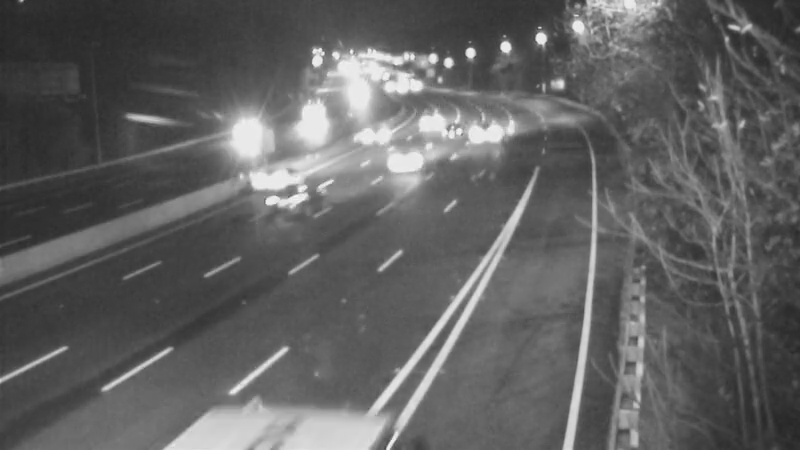vehicle: (368, 123, 448, 203), (231, 133, 311, 213), (251, 162, 331, 242), (399, 94, 449, 144), (459, 105, 509, 155), (427, 108, 477, 158), (349, 110, 399, 160), (219, 113, 269, 163), (285, 100, 335, 150)
